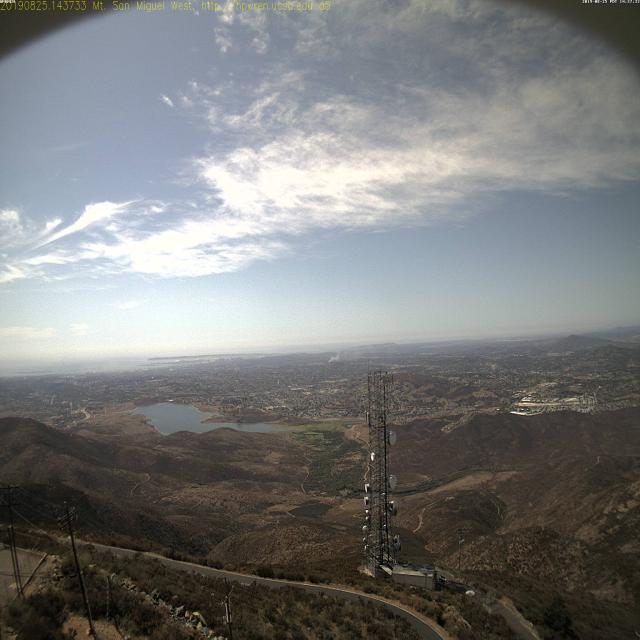smoke: (323, 344, 346, 366)
